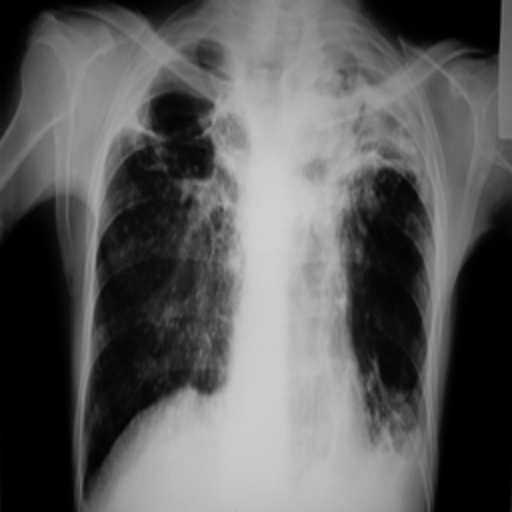TB: (320, 62, 420, 217), (150, 72, 245, 231)
